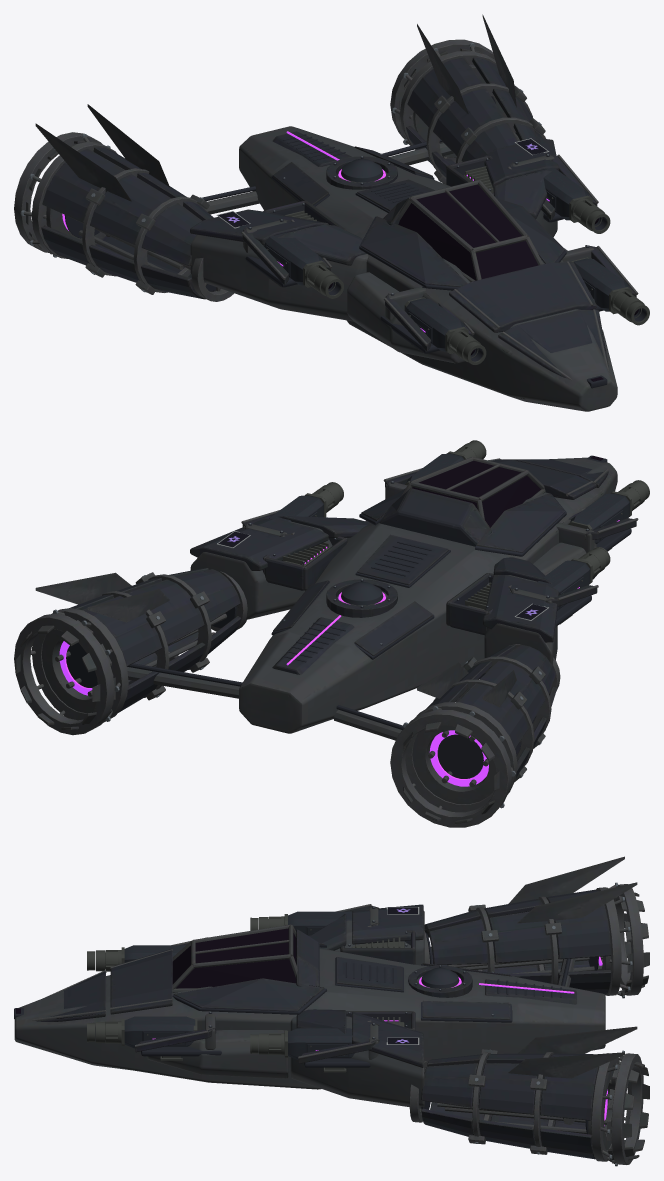
The model's file is eris-schiff2.glb.
3 views of the same model, one above another, from view 1: azimuth 30°, elevation 25°; view 2: azimuth 150°, elevation 25°; view 3: azimuth 270°, elevation 25° (orthographic). The views are drawn at different scales.
Visible parts, largest first — view 1: Hull_eris_Armor, Hull_eris_BrushedAlloy, Hull_eris_EdgeGuards, Generator_01_Geometry, Laser_01_Geometry, Generator_03_Geometry; view 2: Hull_eris_BrushedAlloy, Hull_eris_Armor, Hull_eris_EdgeGuards, Generator_01_Geometry, Generator_03_Geometry, Laser_01_Geometry; view 3: Hull_eris_Armor, Hull_eris_BrushedAlloy, Hull_eris_EdgeGuards, Generator_01_Geometry, Generator_03_Geometry, Laser_01_Geometry.
Boxes of the visible parts, x1,y1,x2,y2 form: Hull_eris_Armor: [41, 57, 636, 377]; Hull_eris_BrushedAlloy: [25, 14, 617, 411]; Hull_eris_EdgeGuards: [14, 39, 638, 380]; Generator_01_Geometry: [20, 43, 649, 388]; Laser_01_Geometry: [328, 184, 638, 381]; Generator_03_Geometry: [263, 158, 628, 351]; Hull_eris_BrushedAlloy: [16, 457, 617, 824]; Hull_eris_Armor: [69, 459, 636, 777]; Hull_eris_EdgeGuards: [14, 458, 638, 827]; Generator_01_Geometry: [30, 440, 649, 808]; Generator_03_Geometry: [269, 453, 629, 610]; Laser_01_Geometry: [412, 456, 603, 527]; Hull_eris_Armor: [36, 889, 611, 1159]; Hull_eris_BrushedAlloy: [14, 856, 649, 1163]; Hull_eris_EdgeGuards: [30, 884, 643, 1164]; Generator_01_Geometry: [14, 882, 632, 1166]; Generator_03_Geometry: [124, 911, 459, 1059]; Laser_01_Geometry: [16, 928, 296, 1013].
Bounding box in the file's own units: 13.19 × 3.85 × 16.36.
10 materials, 10 textured.
